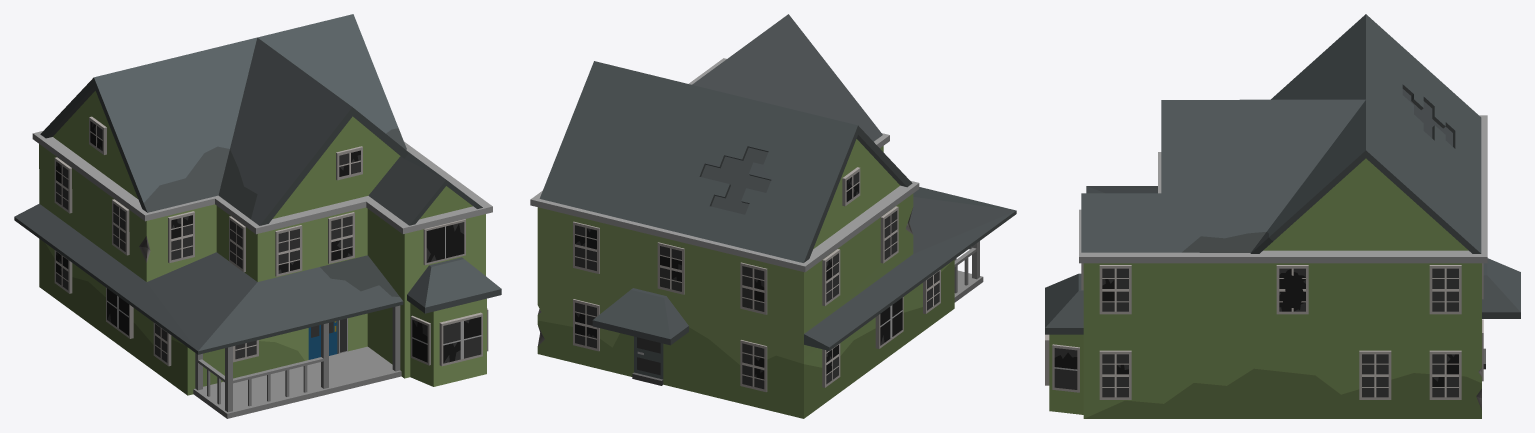
File: SA_Bld_HouseLarge_Damaged_02.gltf
The picture shows the model from 3 angles, left to right: view 1: azimuth 30°, elevation 25°; view 2: azimuth 150°, elevation 25°; view 3: azimuth 270°, elevation 25°; orthographic projection. The views are drawn at different scales.
Visible parts, largest first — view 1: SA_Bld_HouseLarge_Damaged_02; view 2: SA_Bld_HouseLarge_Damaged_02; view 3: SA_Bld_HouseLarge_Damaged_02.
Part boxes in pixels (box(x1,y1,x2,y2)): SA_Bld_HouseLarge_Damaged_02: box(14, 14, 501, 418); SA_Bld_HouseLarge_Damaged_02: box(530, 14, 1016, 418); SA_Bld_HouseLarge_Damaged_02: box(1045, 14, 1520, 418).
Size of the model in its own units: 19.56 by 15.98 by 25.71.
1 material, 1 textured.
